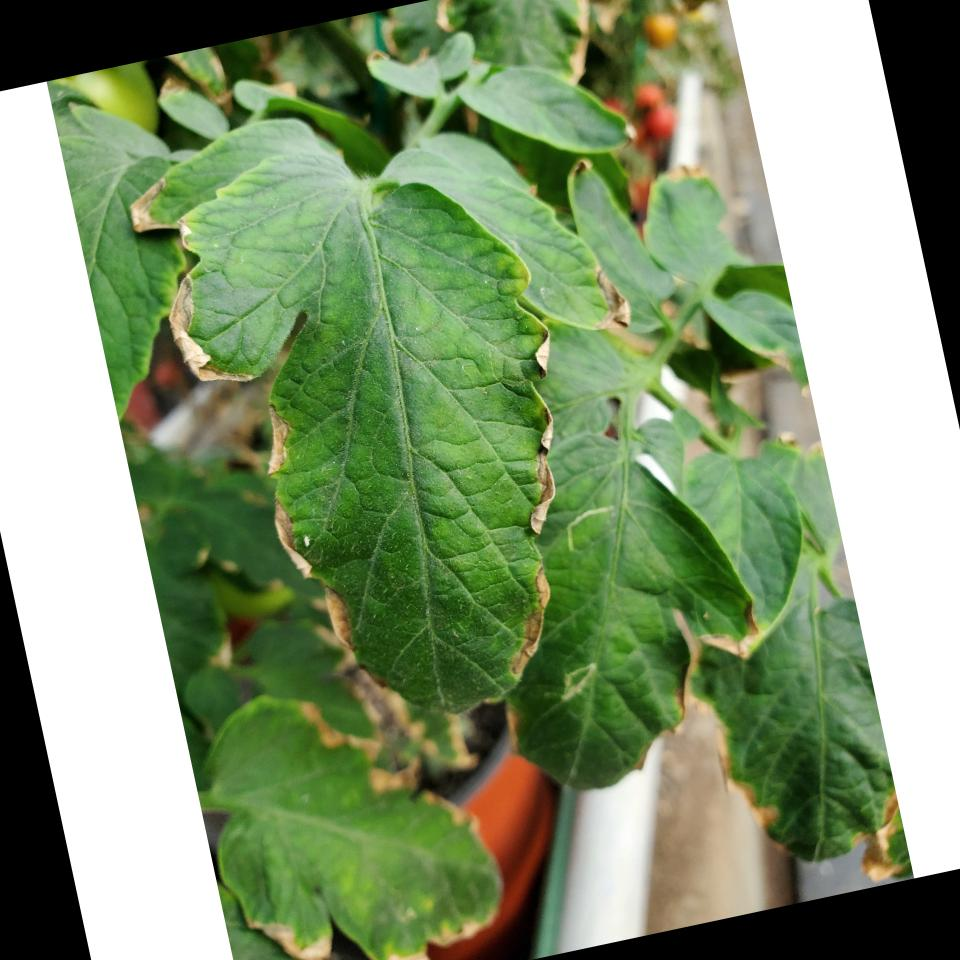tomato_bacterial_blight: (146, 135, 628, 764), (185, 663, 519, 960), (616, 517, 786, 760), (105, 107, 341, 252), (552, 196, 664, 356)
